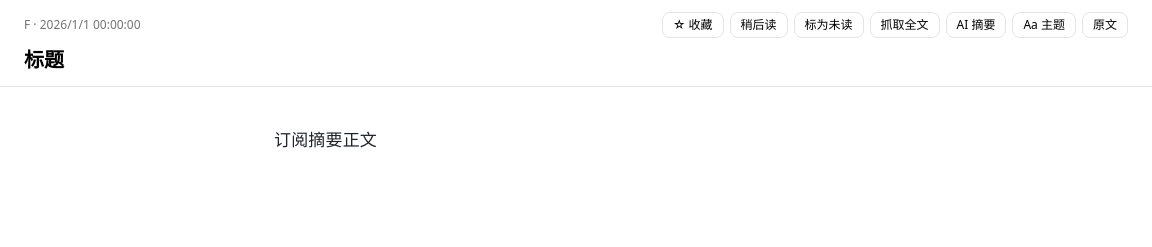
Test: ReaderPane AI 摘要 › 未配置服务商:点击按钮显示引导卡并链到 /settings,不发请求
Click the button "AI 摘要": (976, 25) [946,12,1006,38]
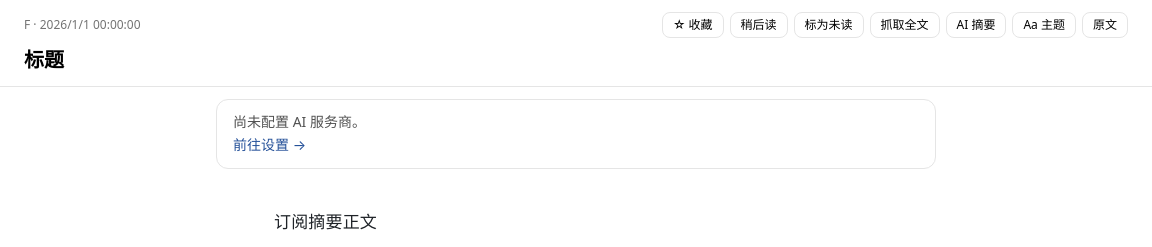
Expected: the element showing "尚未配置 AI 服务商。 前往设置 →" is shown, [216,98,936,168]
Expected: the link "前往设置 →" is shown, [233,134,306,154]
